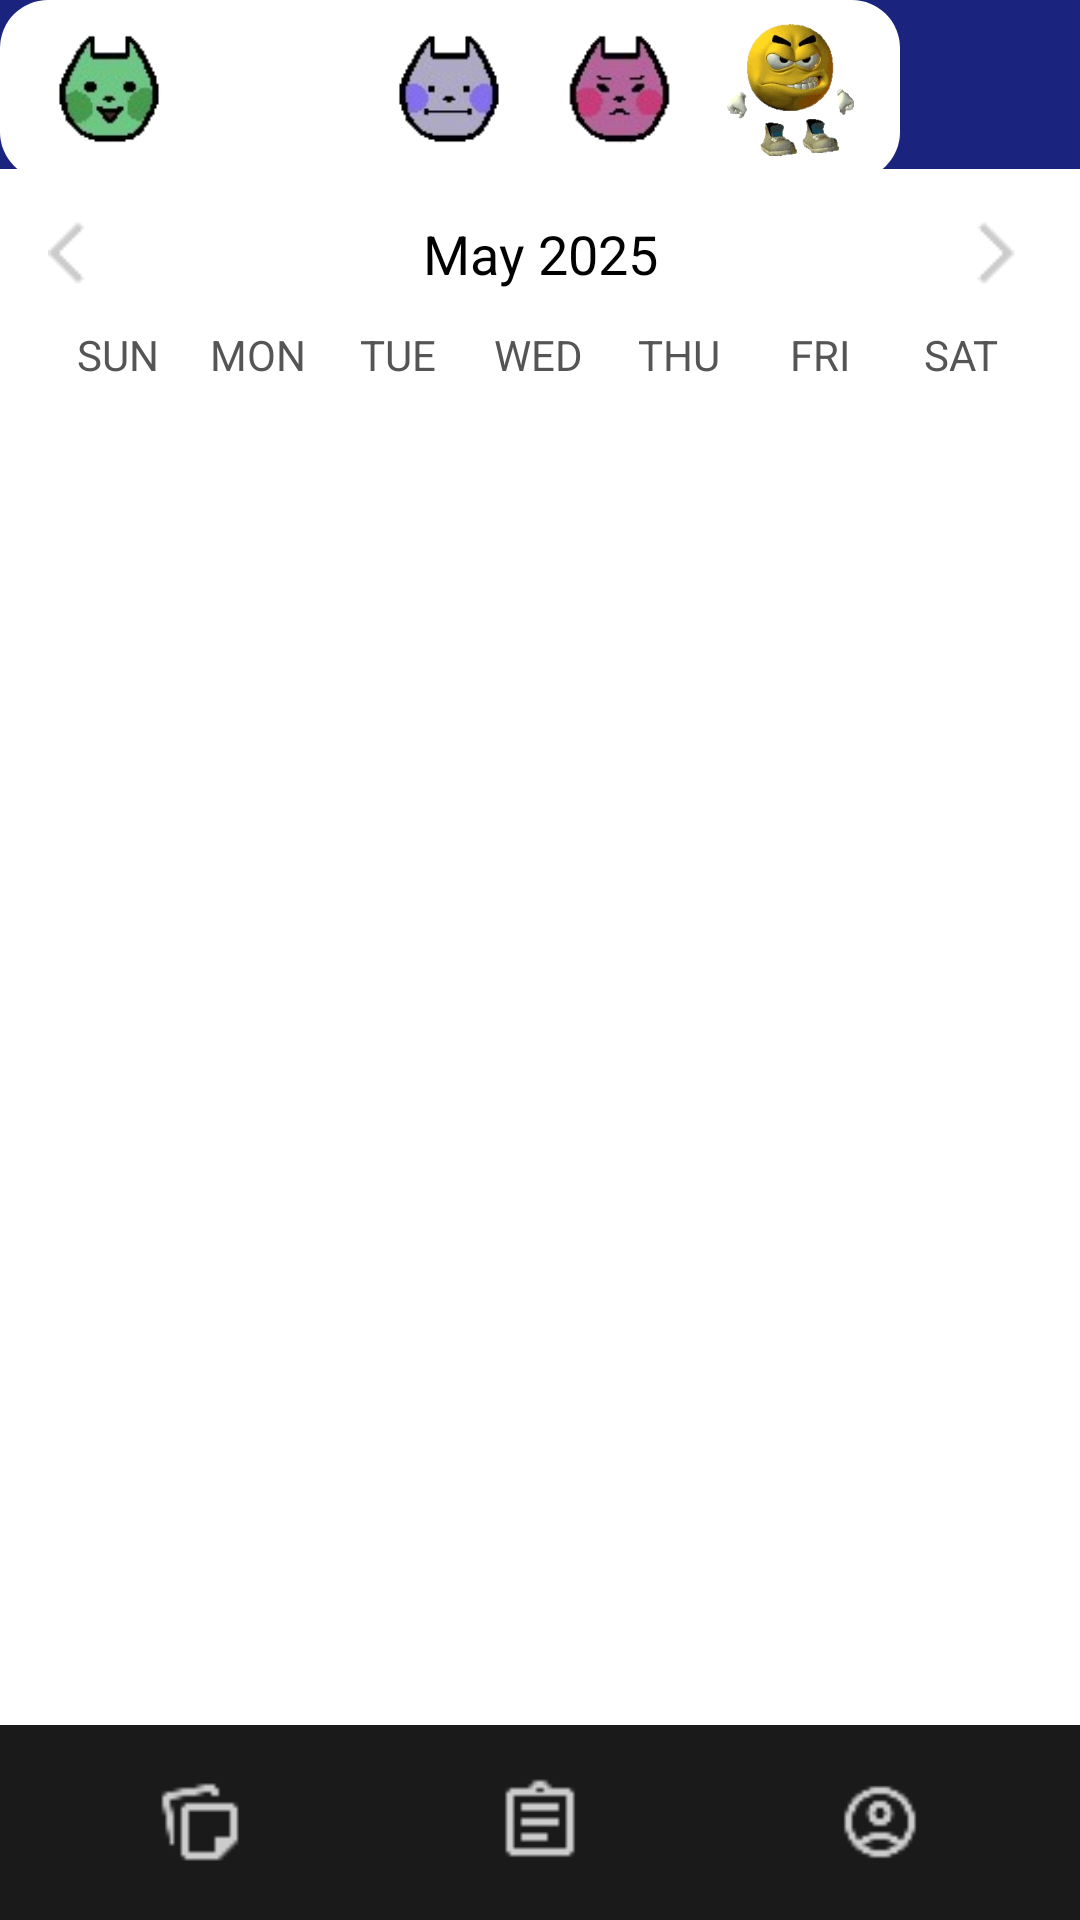

Screen size 1080px x 1920px. Icon name, then its center in pixels as (x=x, y=y):
Mood 1: (x=109, y=89)
Mood 3: (x=449, y=89)
Mood 4: (x=619, y=89)
Mood 5: (x=790, y=90)
Next Month: (x=996, y=253)
Previous Month: (x=65, y=253)
